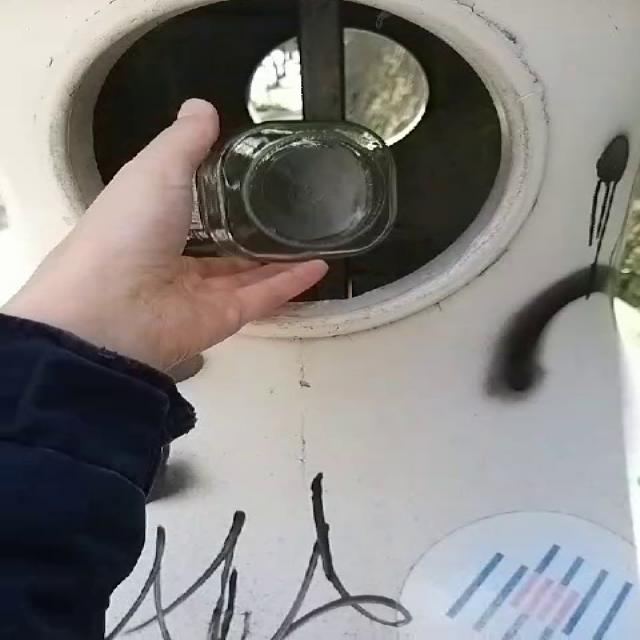glass: (184, 120, 397, 261)
